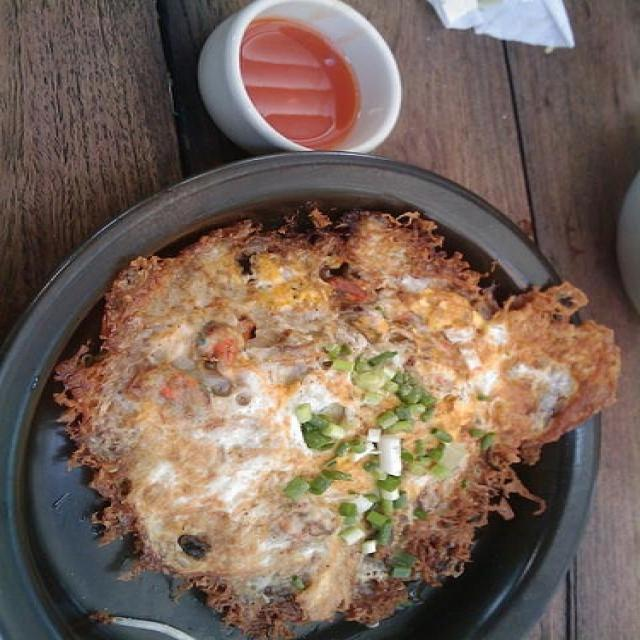炸货点心: (19, 138, 609, 631)
蛋糕甜品: (19, 138, 609, 631)
